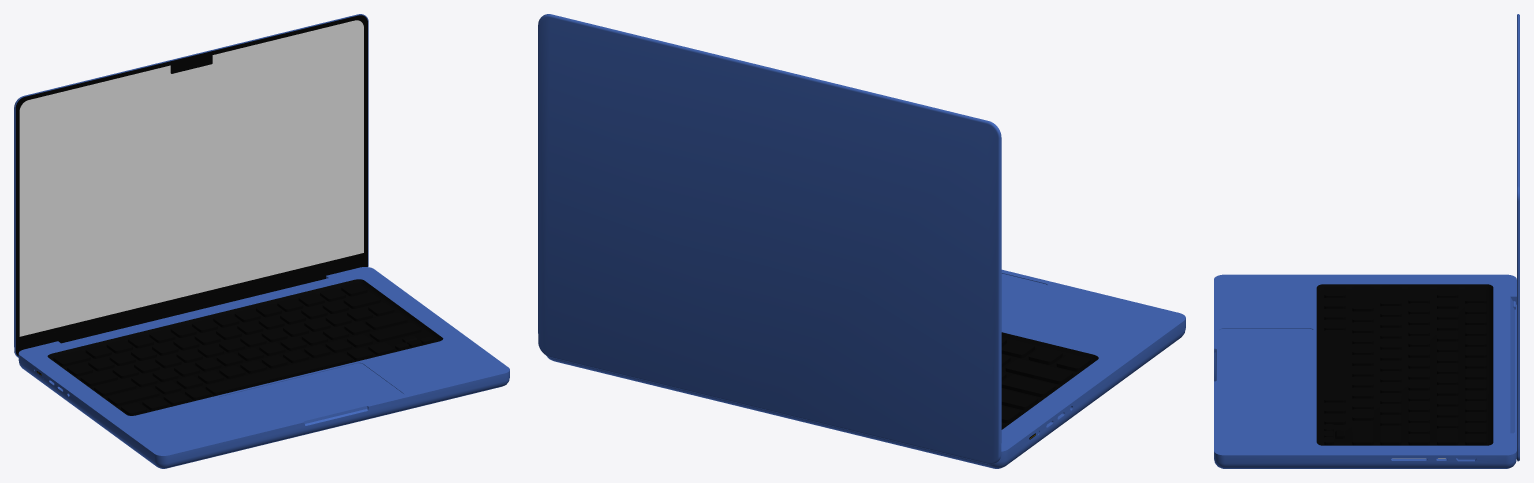
File: M1Pro14.glb
3 renders of one model, left to right at view 1: azimuth 30°, elevation 25°; view 2: azimuth 150°, elevation 25°; view 3: azimuth 270°, elevation 25°, orthographic. The views are drawn at different scales.
Parts seen in each view (by area): view 1: Image, Body, Keys, Screen; view 2: Screen, Body, Keys; view 3: Body, Keys, Screen.
Part boxes in pixels (box(x1,y1,x2,y2)): Image: box(19, 20, 363, 336); Body: box(18, 267, 509, 468); Keys: box(53, 283, 433, 415); Screen: box(14, 14, 368, 357); Screen: box(538, 14, 1001, 464); Body: box(547, 269, 1185, 468); Keys: box(1001, 337, 1090, 427); Body: box(1214, 274, 1516, 468); Keys: box(1324, 286, 1486, 445); Screen: box(1517, 14, 1519, 461).
Bounding box in the file's own units: 4.1 × 3 × 2.93.
